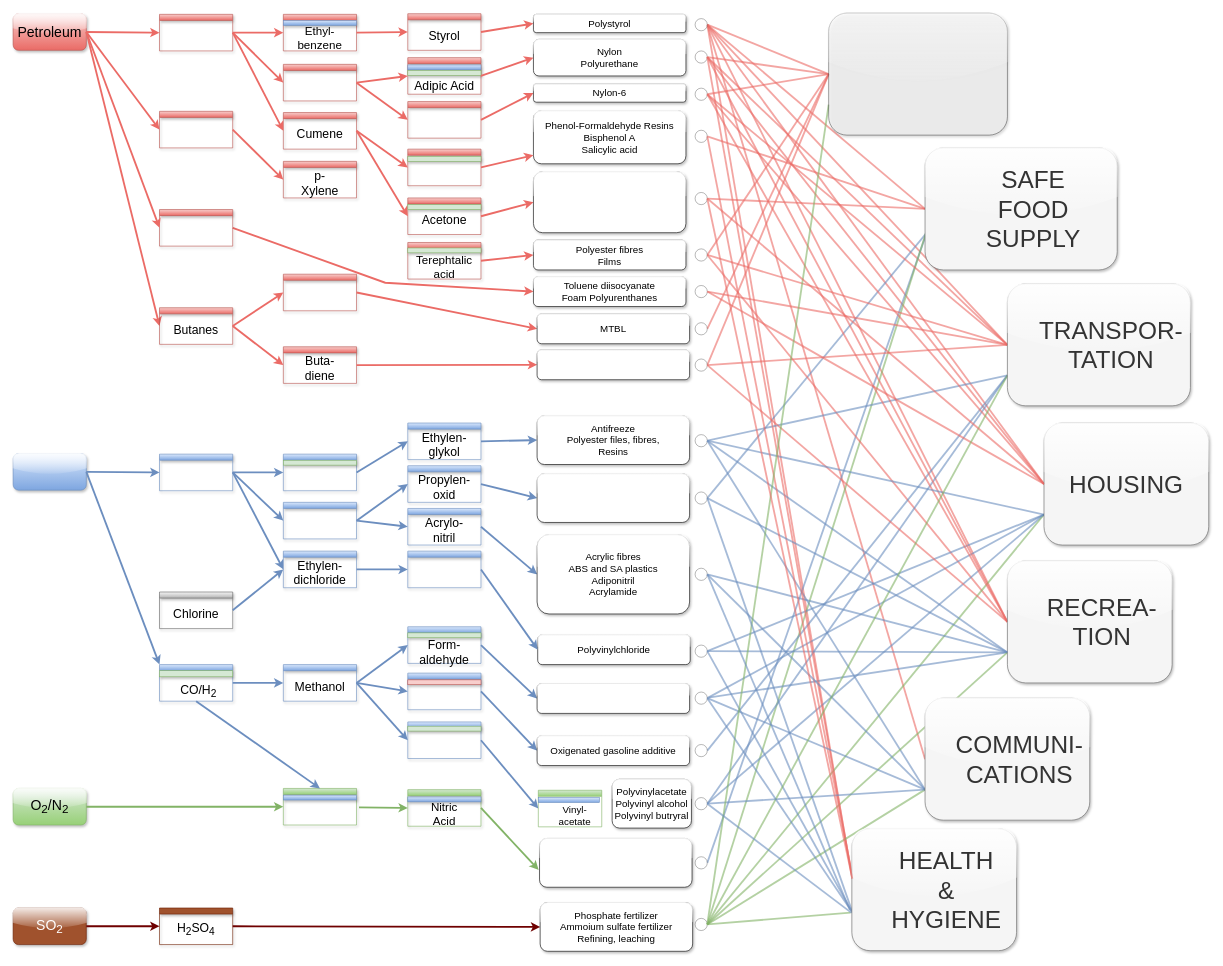
Image size: 1223x966. Some labels were removed from this diagram. Here are the shapes that lost their labels. From the top down, the centre of each, then its label:
At point (196, 33): "Benzene".
At point (320, 83): "Cyclo-hexane".
At point (918, 74): "TEXTILES".
At point (196, 130): "Xylene".
At point (445, 120): "Capro-lactam".
At point (445, 168): "Phenol".
At point (610, 203): "Methyl-methacrylate solvents Bisphenol A Pharmaceuticals".
At point (196, 228): "Toluene".
At point (320, 293): "i-Butylene".
At point (613, 365): "Polybutadiene, Neoprene Styrene butadiene rubber".
At point (50, 472): "Natural Gas".
At point (196, 473): "Ethane, Ethene".
At point (320, 473): "Ethylene-oxid".
At point (613, 499): "Polypropylene Polypropylene glycol Propylene glycol".
At point (320, 521): "Propylene".
At point (445, 570): "Vinyl-chloride".
At point (445, 692): "MTBE".
At point (613, 699): "Urea-Formaldehyde resins Phenol-formaldehyde resins".
At point (445, 741): "Acetic Acid".
At point (320, 807): "Ammonia".
At point (616, 863): "Ammonium nitrate Adipic acid Fertilizers, Explosives".
